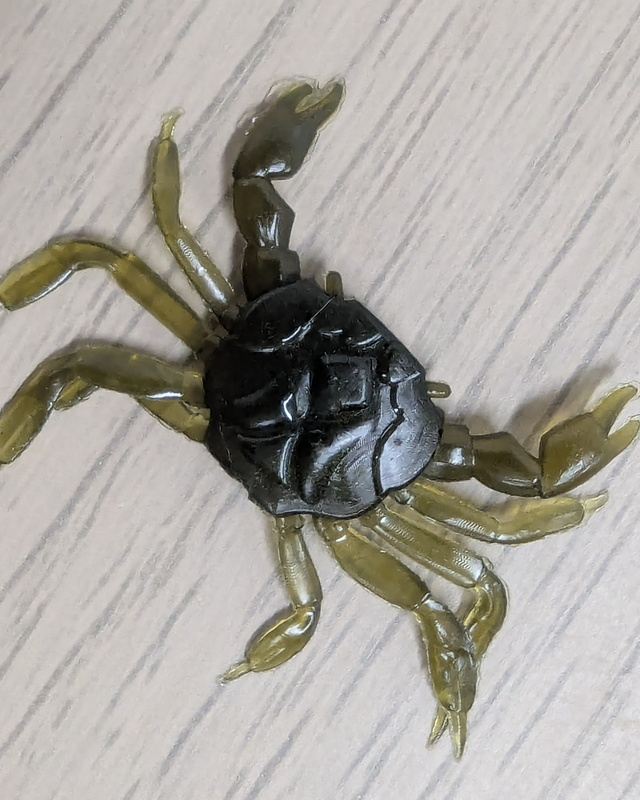crab2: (1, 75, 640, 761)
